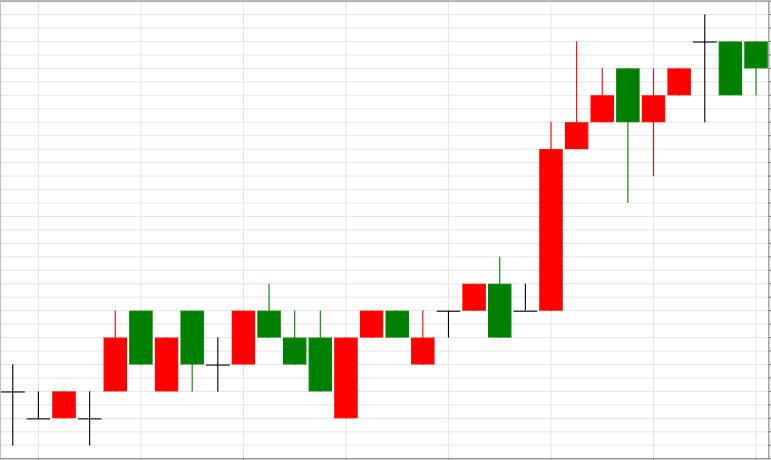evening_star_fall: (539, 14, 742, 311)
